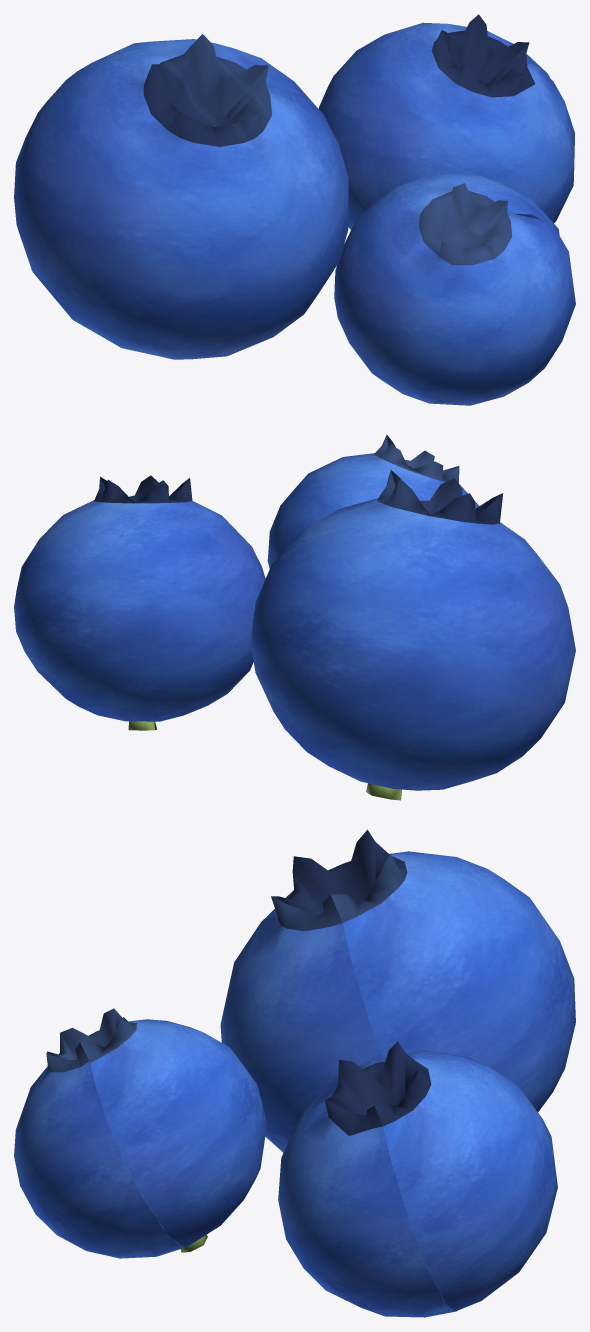
File: NP_Blueberry_Harvest_LOD1.fbx
The picture shows the model from 3 angles, top to bottom: view 1: azimuth 30°, elevation 25°; view 2: azimuth 150°, elevation 25°; view 3: azimuth 270°, elevation 25°; orthographic projection. The views are drawn at different scales.
Parts seen in each view (by area): view 1: NP_Blueberry_Harvest; view 2: NP_Blueberry_Harvest; view 3: NP_Blueberry_Harvest.
Part boxes in pixels (left/top/right/bottom): NP_Blueberry_Harvest: left=14, top=14, right=575, bottom=405; NP_Blueberry_Harvest: left=14, top=434, right=575, bottom=800; NP_Blueberry_Harvest: left=14, top=830, right=575, bottom=1317.
Bounding box in the file's own units: 50.86 × 28.01 × 43.62.
